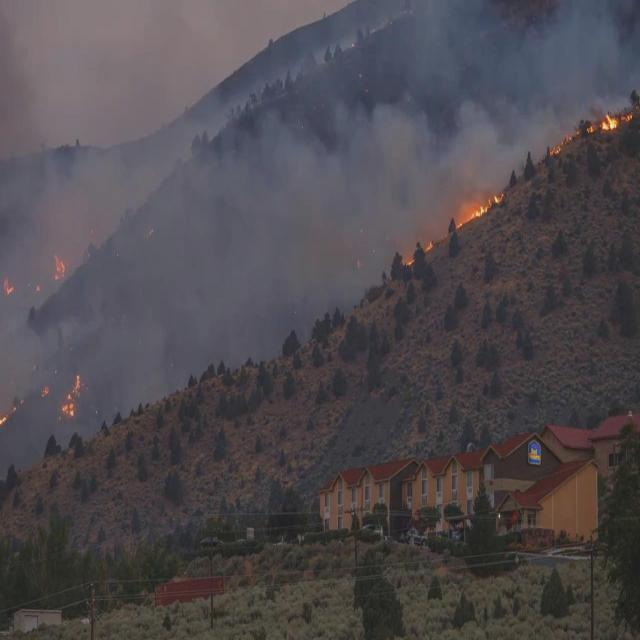Fire: (597, 109, 633, 131), (473, 194, 503, 214)
Smoke: (75, 132, 380, 290), (393, 39, 562, 152)
